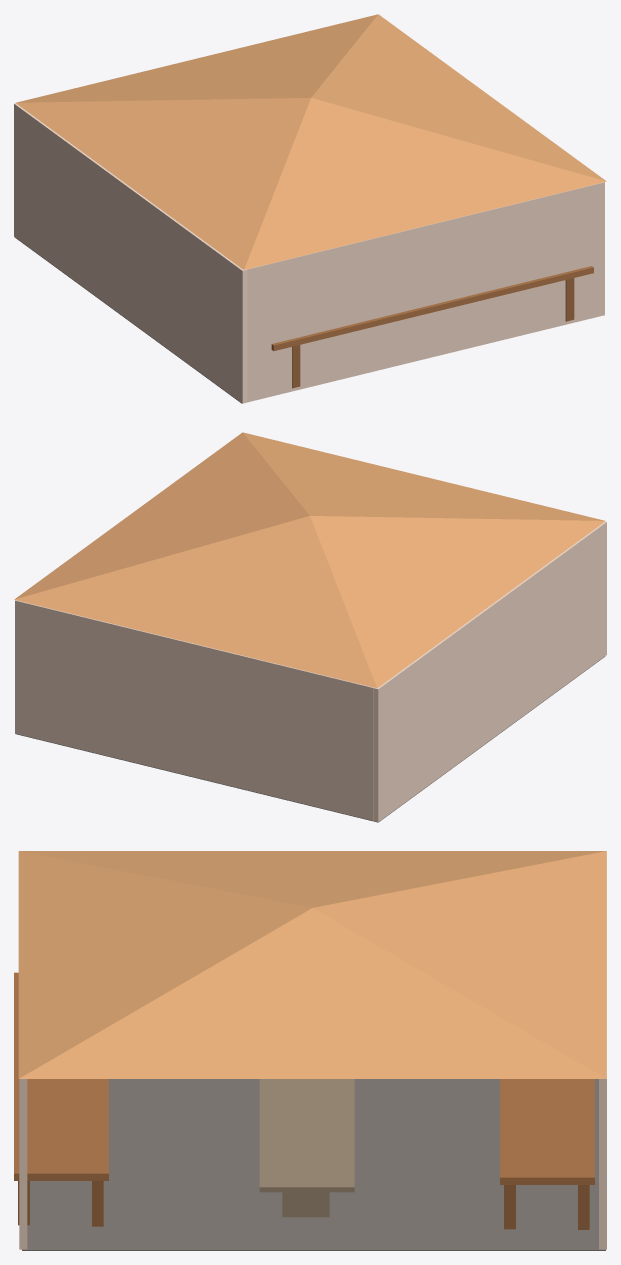
The model's file is PUESTOg.glb.
3 views of the same model, one above another, from view 1: azimuth 30°, elevation 25°; view 2: azimuth 150°, elevation 25°; view 3: azimuth 270°, elevation 25° (orthographic). The views are drawn at different scales.
Parts seen in each view (by area): view 1: Cubo.001, Cube.003, Cube.004, Cubo.003; view 2: Cubo.001, Cube.001, Cube.004, Cubo; view 3: Cubo.001, Cubo, Cubo.002, Cubo.004, Cubo.003, Cube.001, Cube.003.
Part boxes in pixels (left/top/right/bottom): Cubo.001: left=15, top=14, right=606, bottom=269; Cube.003: left=247, top=182, right=604, bottom=402; Cube.004: left=14, top=103, right=247, bottom=403; Cubo.003: left=271, top=266, right=593, bottom=388; Cubo.001: left=14, top=432, right=605, bottom=687; Cube.001: left=15, top=600, right=373, bottom=820; Cube.004: left=373, top=521, right=606, bottom=821; Cubo: left=15, top=656, right=605, bottom=822; Cubo.001: left=18, top=851, right=606, bottom=1078; Cubo: left=22, top=1079, right=605, bottom=1250; Cubo.002: left=259, top=1079, right=354, bottom=1217; Cubo.004: left=500, top=1079, right=594, bottom=1229; Cubo.003: left=14, top=972, right=108, bottom=1226; Cube.001: left=599, top=854, right=606, bottom=1249; Cube.003: left=19, top=1079, right=27, bottom=1249.
Bounding box in the file's own units: 62.57 × 29.29 × 68.59.
